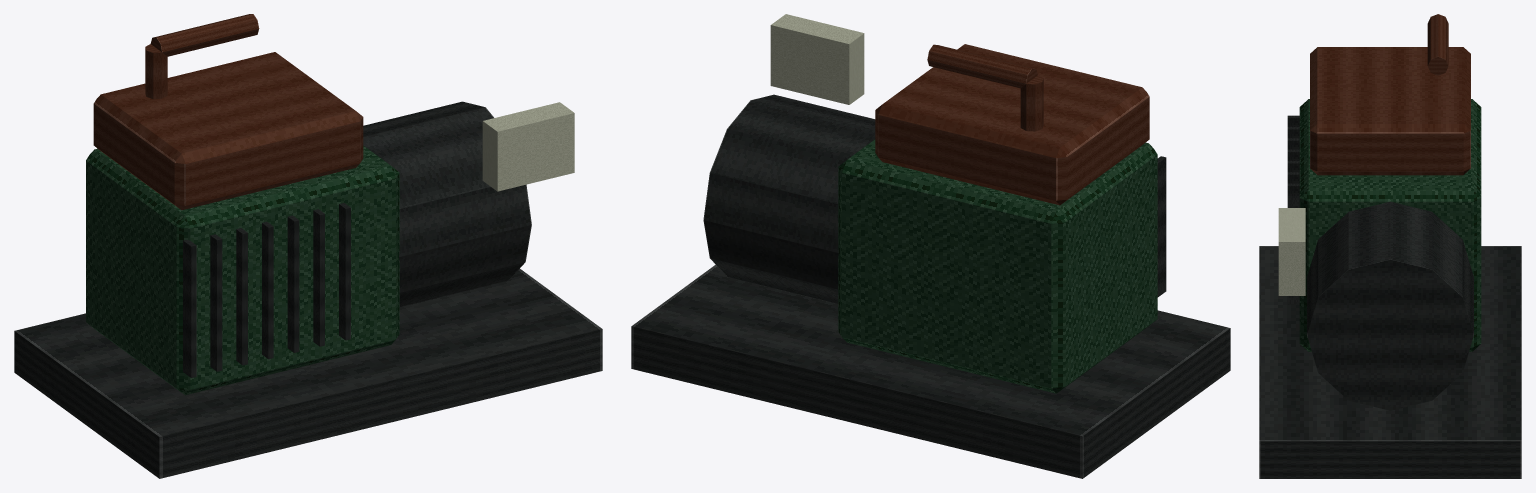
Rendered from level_trace_generator.glb.
3 renders of one model, left to right at view 1: azimuth 30°, elevation 25°; view 2: azimuth 150°, elevation 25°; view 3: azimuth 270°, elevation 25°, orthographic. The views are drawn at different scales.
Visible parts, largest first — view 1: level_trace_generator; view 2: level_trace_generator; view 3: level_trace_generator.
Boxes of the visible parts, bbox=[...] form: level_trace_generator: bbox=[14, 14, 602, 478]; level_trace_generator: bbox=[631, 14, 1230, 478]; level_trace_generator: bbox=[1259, 14, 1521, 478].
Size of the model in its own units: 1.55 by 1.15 by 0.88.
4 materials, 4 textured.
